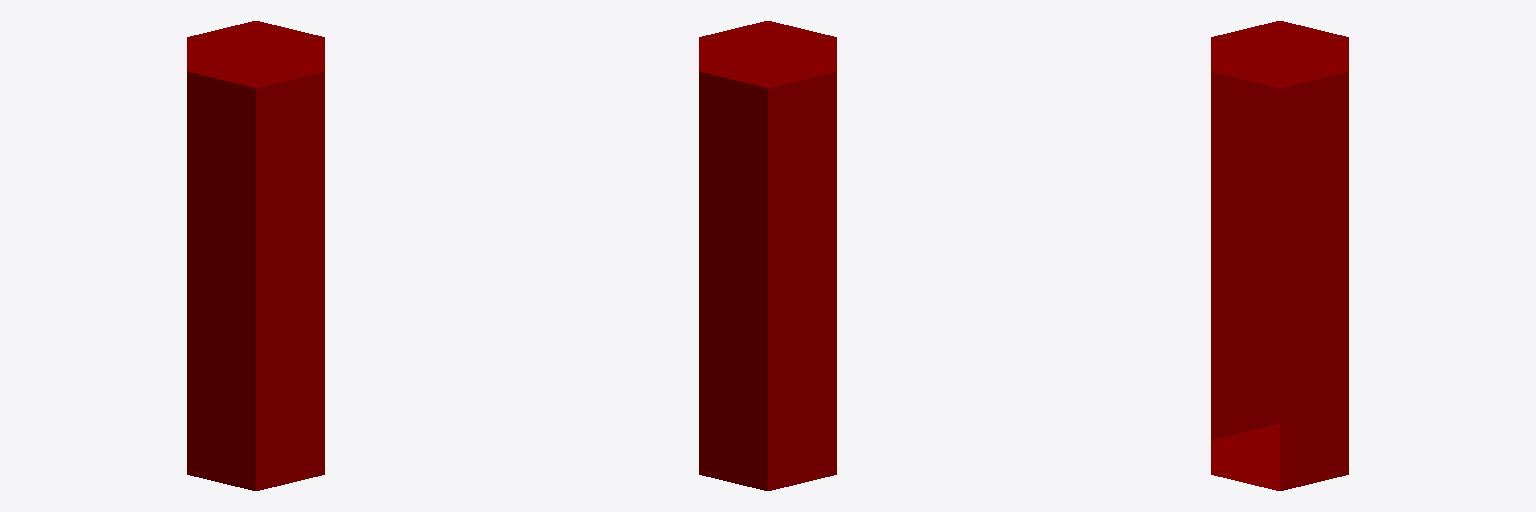
robot.urdf — toblerone:
<?xml version="1.0"?>
<robot name="toblerone" xmlns:drake="https://drake.mit.edu/">
    <link name="body">
        <inertial>
            <origin xyz="0 0 0" rpy="0 0 0"/>
            <mass value="0.056" />
            <inertia
                ixx="0.00010416"
                ixy="0"
                ixz="0"
                iyy="0.00031107"
                iyz="0"
                izz="0.00028084"/>
        </inertial>
        <visual>
            <origin xyz="0 0 0" rpy="0 0 0" />
            <geometry>
                <mesh filename="gt_toblerone_simple.obj"/>
            </geometry>
            <material name="pennred">
                <color rgba="0.6 0 0 1.0" />
            </material>
        </visual>
        <collision>
            <geometry>
                <mesh filename="gt_toblerone_simple.obj"/>
            </geometry>
            <origin xyz="0 0 0" rpy="0 0 0" />
            <drake:proximity_properties>
                <drake:mu_static value="0.15" />
            </drake:proximity_properties>
        </collision>
    </link>
</robot>

--- What the picture shows (computed from the rendered views, not written in the file) ---
3 views of the same robot in one strip: view 1: azimuth 30°, elevation 25°; view 2: azimuth 150°, elevation 25°; view 3: azimuth 270°, elevation 25° (orthographic).
Robot: toblerone — 1 links, 0 joints (none); root link body; default pose: every joint at zero.
Visible links, largest first — view 1: body; view 2: body; view 3: body.
Boxes of the visible links, left/top/right/bottom form: body: left=187, top=21, right=324, bottom=490; body: left=699, top=21, right=836, bottom=490; body: left=1211, top=21, right=1348, bottom=490.
Size in the robot's own frame: 0.0763 by 0.0661 by 0.2118 metres.
Meshes: 1 distinct files referenced, 1 mesh visuals loaded (1 OBJ).